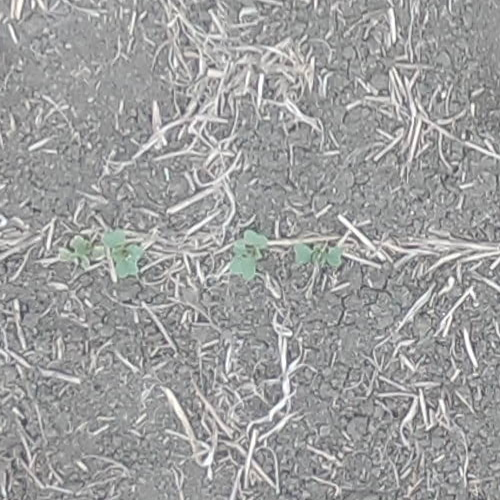plant: (100, 230, 142, 277), (230, 229, 267, 281), (59, 236, 94, 273), (295, 245, 344, 267)
